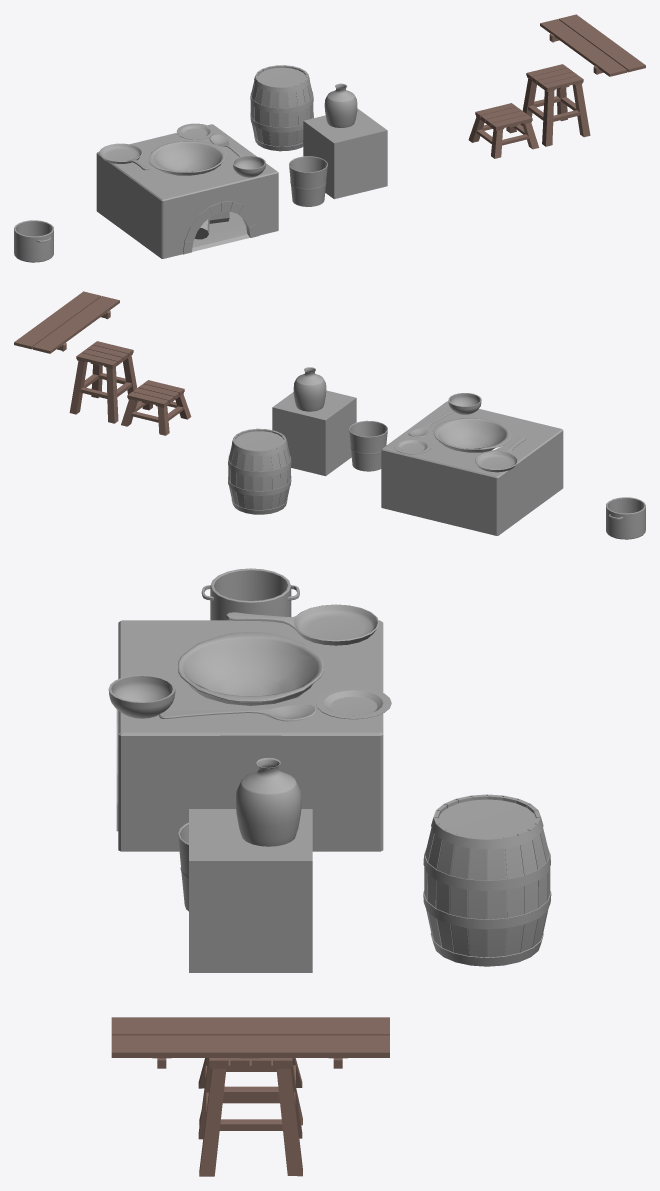
Rendered from kitchen_props.fbx.
3 views of the same model, one above another, from view 1: azimuth 30°, elevation 25°; view 2: azimuth 150°, elevation 25°; view 3: azimuth 270°, elevation 25° (orthographic). The views are drawn at different scales.
Visible parts, largest first — view 1: stove, pCube10, polySurface1, kitchen_stoolL, kitchen_shelve, kitchen_stoolS, pan_large, bucket, pot_v2, polySurface2, vase_pot, stove_edge (+3 smaller); view 2: stove, pCube10, polySurface1, kitchen_stoolL, kitchen_shelve, kitchen_stoolS, pan_large, bucket, pot_v2, polySurface2, vase_pot, pan (+2 smaller); view 3: stove, pCube10, polySurface1, kitchen_shelve, pan_large, kitchen_stoolL, polySurface2, vase_pot, pot_v2, pan, bowl, plate (+2 smaller).
Boxes of the visible parts, <box> form: stove: <box>96,124,278,258</box>; pCube10: <box>303,108,387,199</box>; polySurface1: <box>250,65,313,146</box>; kitchen_stoolL: <box>520,64,590,146</box>; kitchen_shelve: <box>540,14,645,76</box>; kitchen_stoolS: <box>468,103,539,158</box>; pan_large: <box>148,141,226,175</box>; bucket: <box>289,156,327,206</box>; pot_v2: <box>14,220,53,262</box>; polySurface2: <box>250,65,313,151</box>; vase_pot: <box>324,83,357,127</box>; stove_edge: <box>183,201,258,254</box>; stove: <box>381,401,563,535</box>; pCube10: <box>272,390,356,476</box>; polySurface1: <box>228,429,290,509</box>; kitchen_stoolL: <box>69,341,139,423</box>; kitchen_shelve: <box>14,291,119,353</box>; kitchen_stoolS: <box>121,380,191,435</box>; pan_large: <box>433,418,511,452</box>; bucket: <box>349,420,387,471</box>; pot_v2: <box>606,497,645,539</box>; polySurface2: <box>228,428,291,514</box>; vase_pot: <box>293,367,326,411</box>; pan: <box>475,437,525,472</box>; stove: <box>118,620,383,851</box>; pCube10: <box>189,809,312,972</box>; polySurface1: <box>424,795,550,957</box>; kitchen_shelve: <box>111,1017,389,1068</box>; pan_large: <box>178,632,323,705</box>; kitchen_stoolL: <box>198,1058,302,1176</box>; polySurface2: <box>423,794,551,966</box>; vase_pot: <box>235,757,301,846</box>; pot_v2: <box>201,568,299,620</box>; pan: <box>226,604,379,645</box>; bowl: <box>108,674,175,718</box>; plate: <box>315,686,391,719</box>.
Size of the model in its own units: 11.62 by 1.74 by 3.75.
